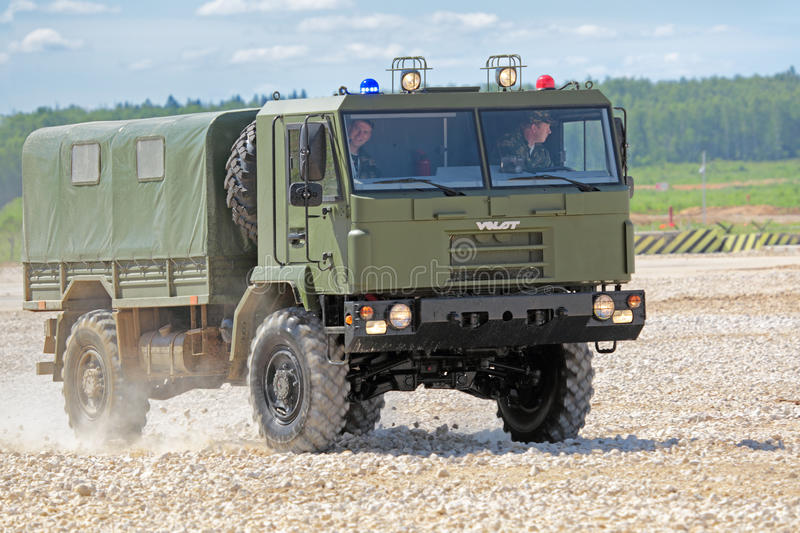camion: (25, 91, 643, 447)
